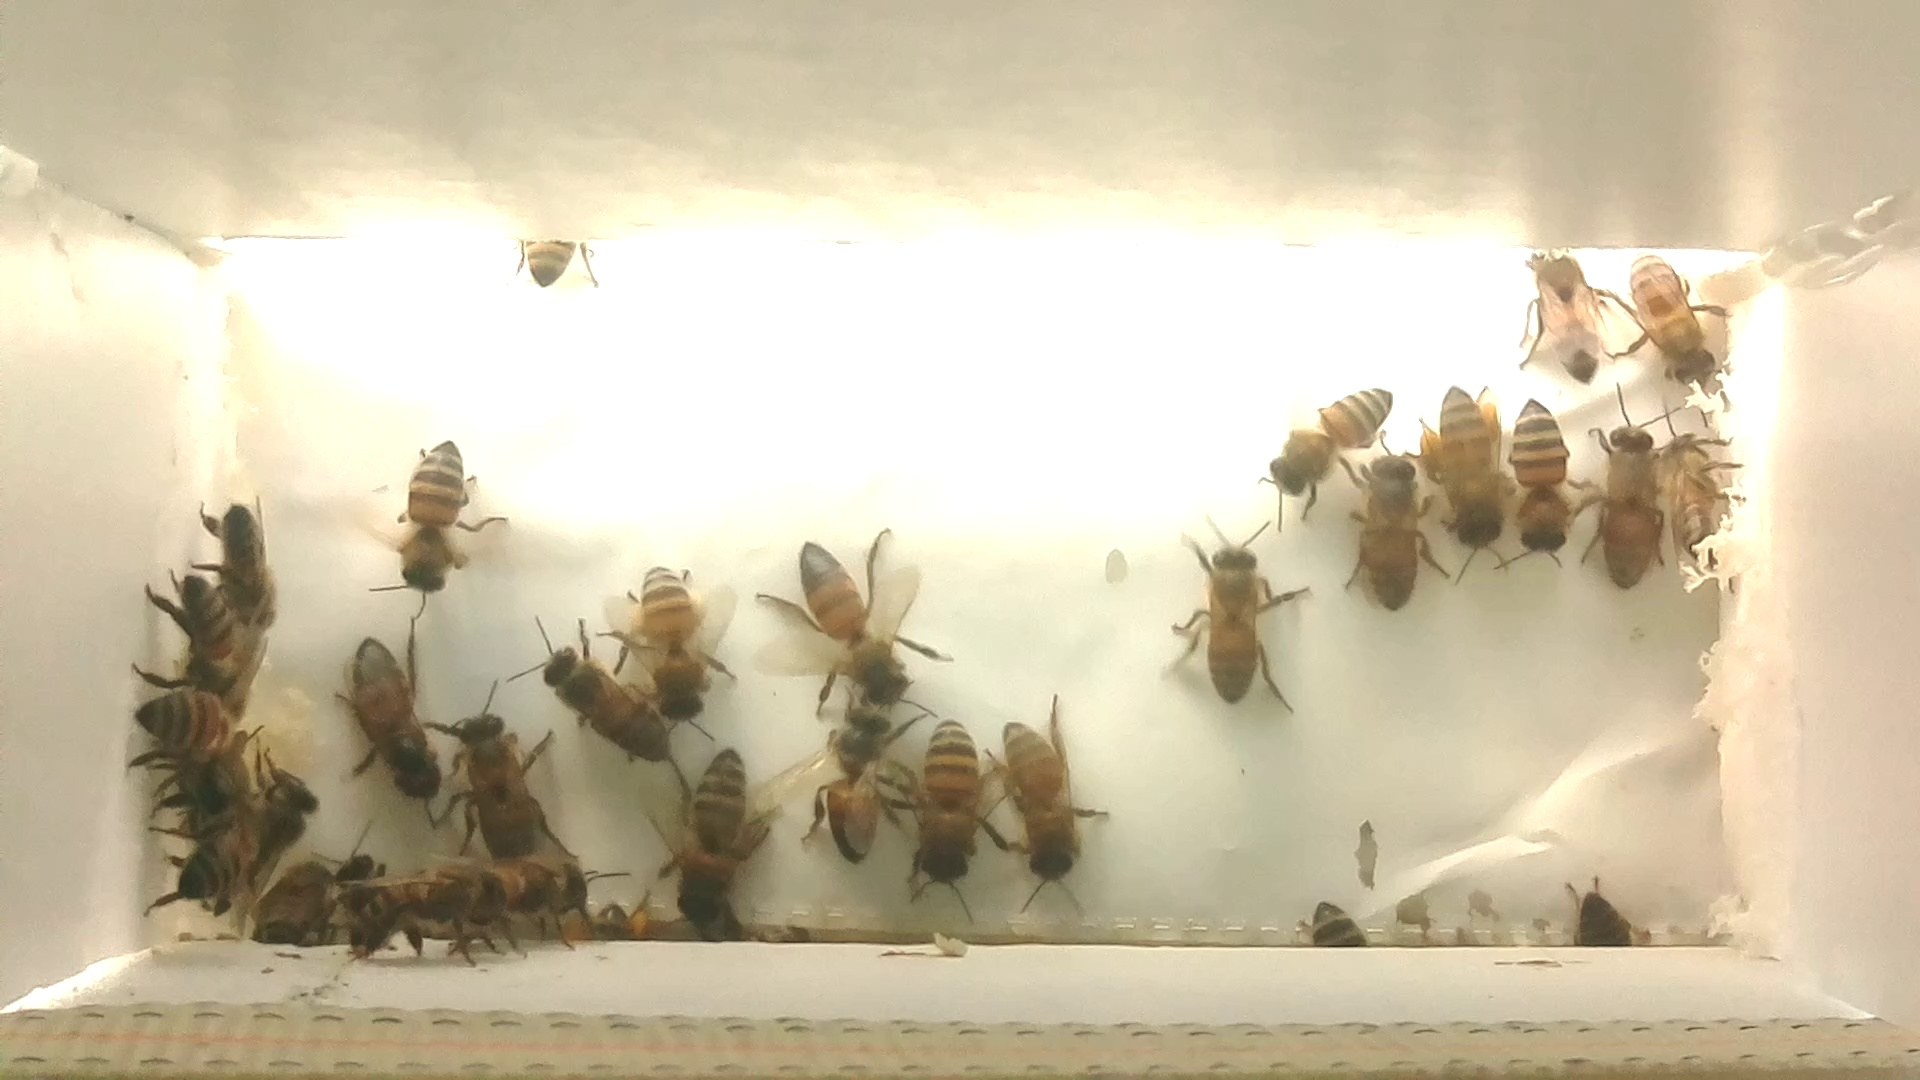bee: (758, 516, 953, 716), (976, 690, 1120, 926), (353, 419, 521, 621), (1170, 508, 1317, 727), (761, 688, 928, 878), (605, 541, 742, 753), (889, 700, 1007, 939), (326, 615, 460, 824), (651, 733, 785, 943), (429, 684, 578, 872), (514, 618, 690, 773), (1408, 375, 1528, 591), (1253, 349, 1404, 510), (1335, 419, 1451, 628), (334, 858, 516, 980), (1618, 239, 1743, 410), (1576, 406, 1680, 604), (1510, 228, 1621, 398), (135, 563, 260, 713), (443, 848, 620, 953), (1505, 392, 1601, 580), (1660, 418, 1754, 596), (149, 783, 269, 915), (193, 493, 290, 640), (116, 666, 244, 770), (243, 845, 349, 953), (233, 756, 328, 853), (1557, 870, 1654, 961), (495, 229, 608, 306), (1283, 894, 1383, 961)
